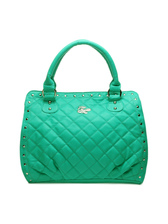bag: (16, 38, 151, 186)
